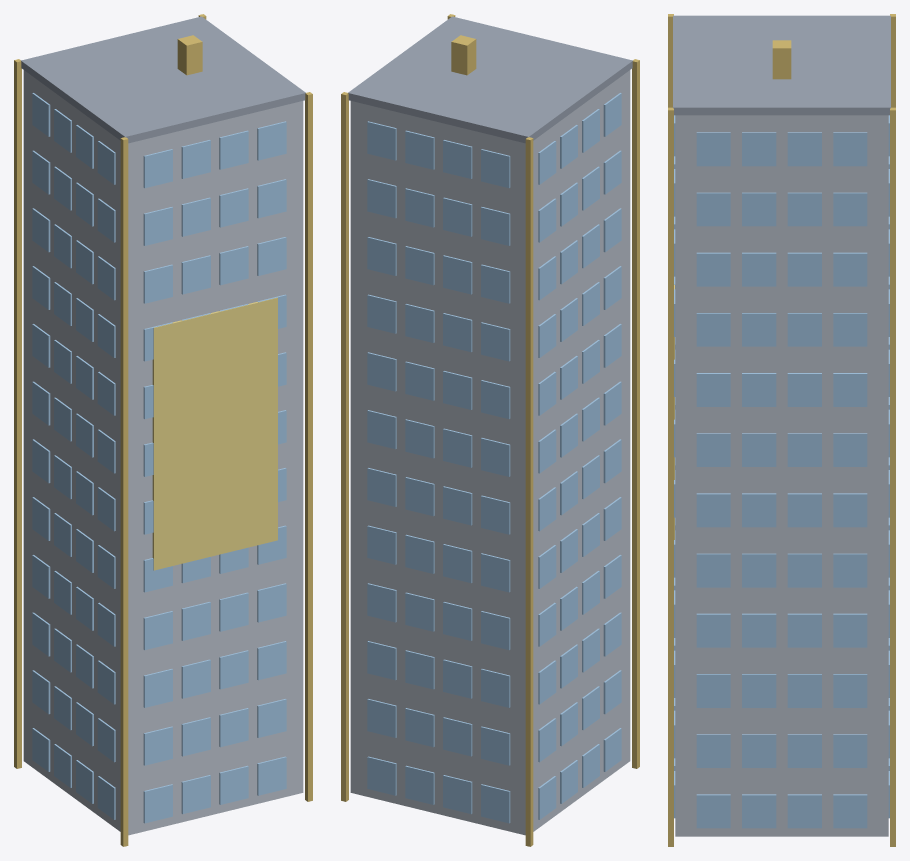
Rendered from tower_c.glb.
The picture shows the model from 3 angles, left to right: view 1: azimuth 30°, elevation 25°; view 2: azimuth 150°, elevation 25°; view 3: azimuth 270°, elevation 25°; orthographic projection. The views are drawn at different scales.
Bounding box in the file's own units: 9.61 × 35.74 × 9.61.
